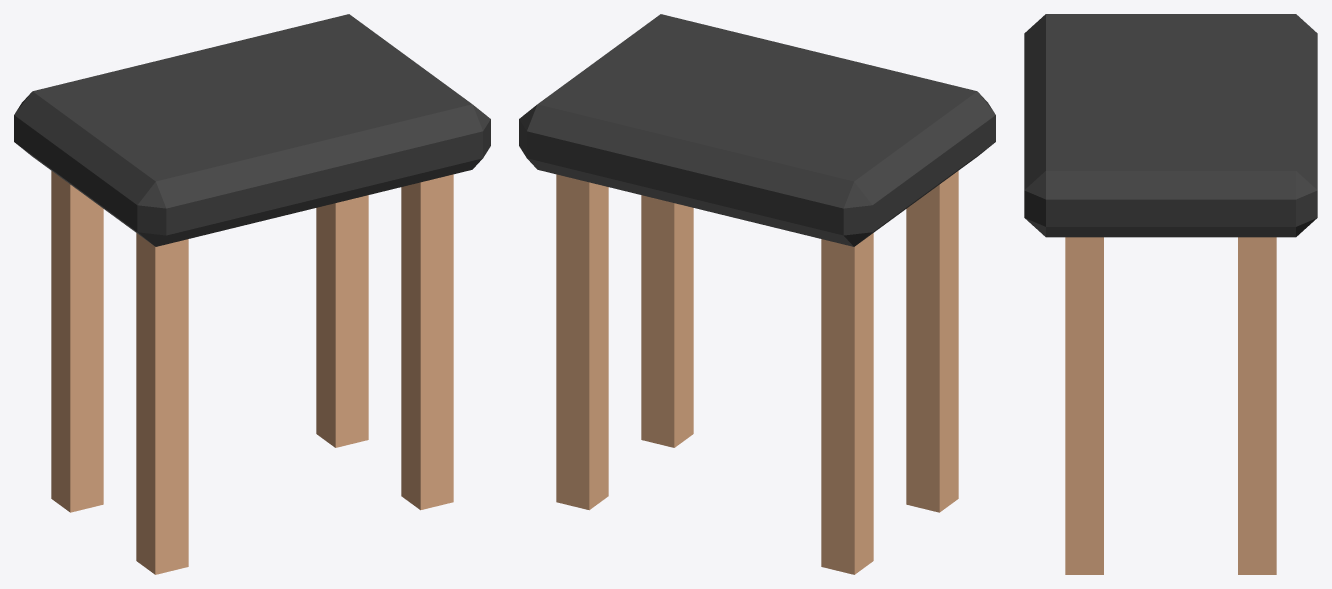
The picture shows the model from 3 angles, left to right: view 1: azimuth 30°, elevation 25°; view 2: azimuth 150°, elevation 25°; view 3: azimuth 270°, elevation 25°; orthographic projection.
Visible parts, largest first — view 1: Cushioned seat, Stool leg, Stool leg.002, Stool leg.001, Stool leg.003; view 2: Cushioned seat, Stool leg.001, Stool leg.003, Stool leg, Stool leg.002; view 3: Cushioned seat, Stool leg.002, Stool leg.003.
Part boxes in pixels (left/top/right/bottom): Cushioned seat: left=14, top=14, right=490, bottom=246; Stool leg: left=136, top=233, right=188, bottom=574; Stool leg.002: left=401, top=174, right=453, bottom=510; Stool leg.001: left=51, top=171, right=103, bottom=512; Stool leg.003: left=316, top=195, right=368, bottom=447; Cushioned seat: left=519, top=14, right=995, bottom=246; Stool leg.001: left=821, top=233, right=873, bottom=574; Stool leg.003: left=556, top=174, right=608, bottom=510; Stool leg: left=906, top=171, right=958, bottom=512; Stool leg.002: left=641, top=195, right=693, bottom=447; Cushioned seat: left=1024, top=14, right=1317, bottom=237; Stool leg.002: left=1065, top=237, right=1103, bottom=574; Stool leg.003: left=1238, top=237, right=1276, bottom=574.
Size of the model in its own units: 0.48 by 0.5225 by 0.34.
1 material, 1 textured.
